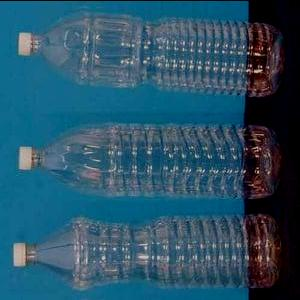bottle: (14, 4, 290, 109), (13, 114, 288, 203), (12, 210, 288, 298)
